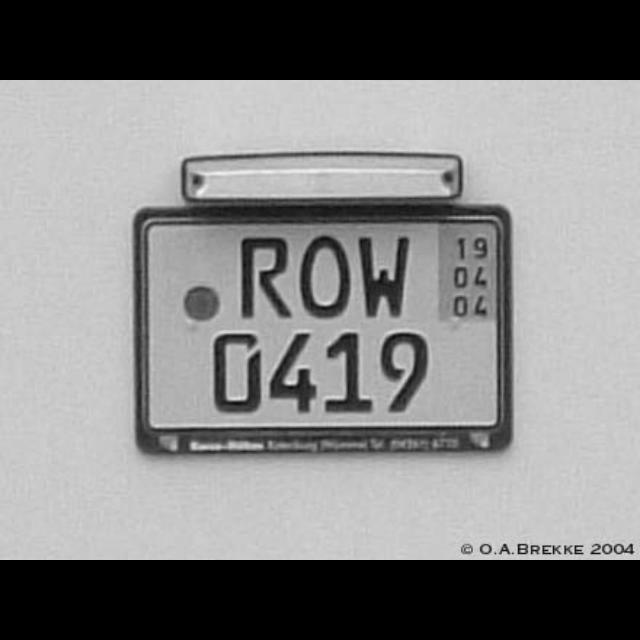licenseplate: (140, 215, 500, 427)
